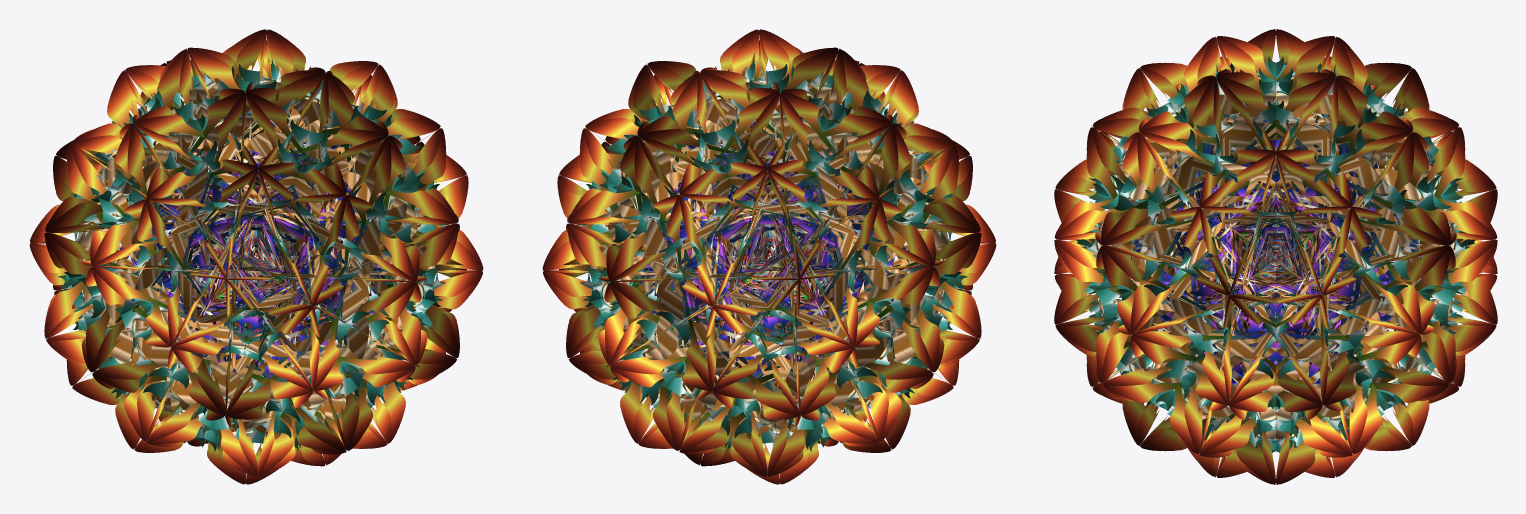
The model's file is GreatDirhombicosidodecahedron12.gltf.
3 views of the same model, side by side, from view 1: azimuth 30°, elevation 25°; view 2: azimuth 150°, elevation 25°; view 3: azimuth 270°, elevation 25° (orthographic). The views are drawn at different scales.
Parts seen in each view (by area): view 1: GreatDirhombicosidodecahedron12; view 2: GreatDirhombicosidodecahedron12; view 3: GreatDirhombicosidodecahedron12.
Boxes of the visible parts, left/top/right/bottom form: GreatDirhombicosidodecahedron12: left=29, top=29, right=483, bottom=484; GreatDirhombicosidodecahedron12: left=542, top=29, right=996, bottom=484; GreatDirhombicosidodecahedron12: left=1054, top=29, right=1497, bottom=484.
Bounding box in the file's own units: 1.34 × 1.34 × 1.34.
1 material, 1 textured.
